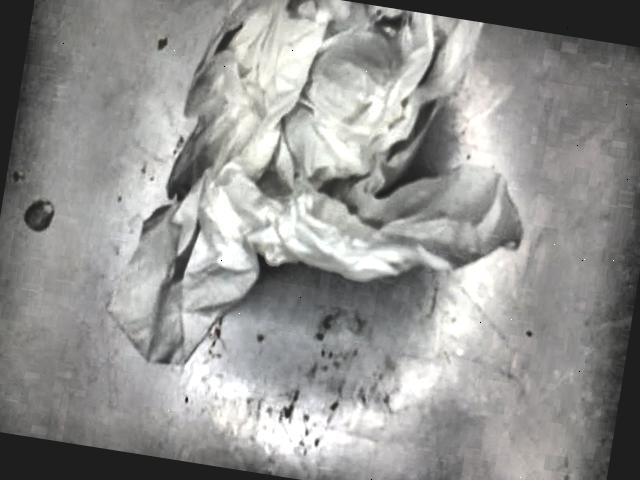Paper: (68, 0, 588, 438)
